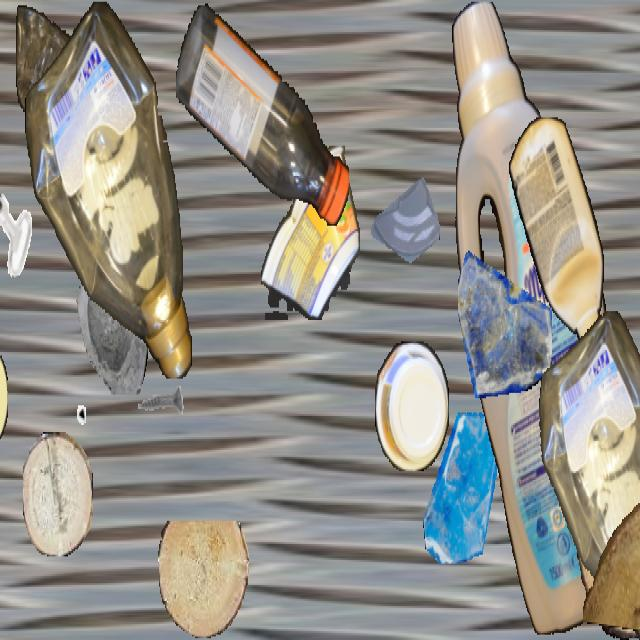glass: (458, 231, 552, 398), (61, 234, 151, 394), (421, 412, 505, 562), (371, 166, 439, 286)
metal: (573, 267, 635, 377), (133, 363, 185, 455), (36, 353, 86, 442), (0, 190, 35, 276)
plastic: (450, 2, 640, 634), (25, 1, 193, 378), (176, 2, 348, 229), (534, 311, 640, 638), (509, 117, 603, 345), (261, 146, 359, 320), (375, 342, 449, 469), (16, 2, 90, 126), (0, 325, 7, 464)
wood: (575, 450, 640, 638), (158, 521, 248, 638), (583, 471, 640, 638), (23, 432, 93, 556)
